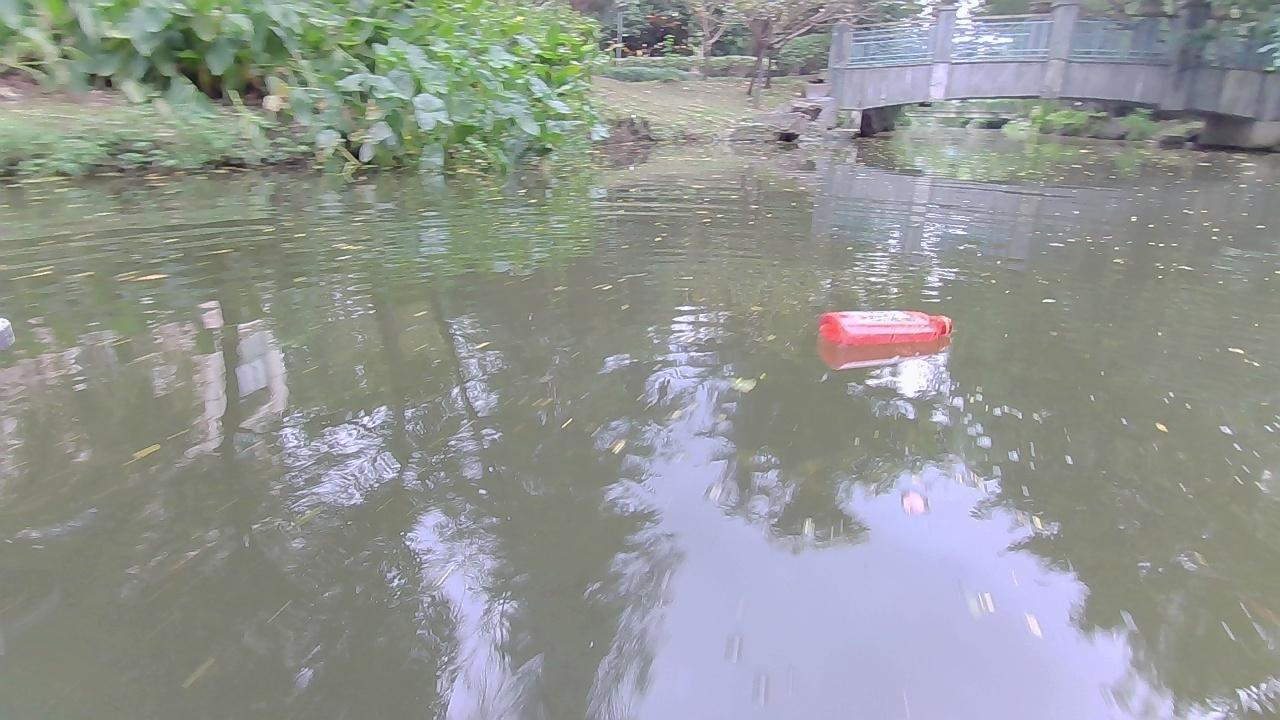bottle: (810, 307, 950, 349)
